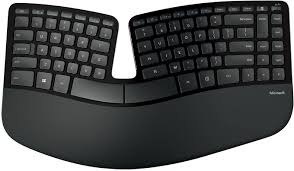keyboard: (0, 1, 294, 105)
